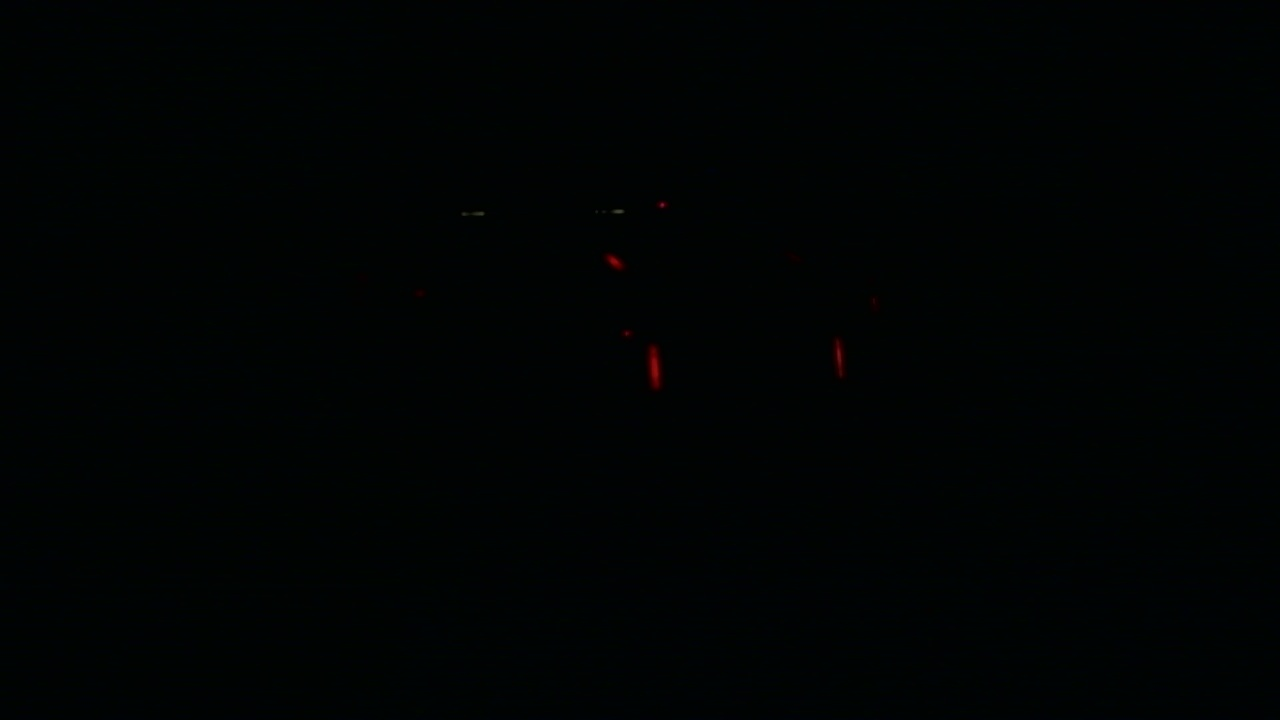lamp: (832, 336, 847, 380), (643, 348, 660, 384)
pair2: (643, 340, 847, 384)
